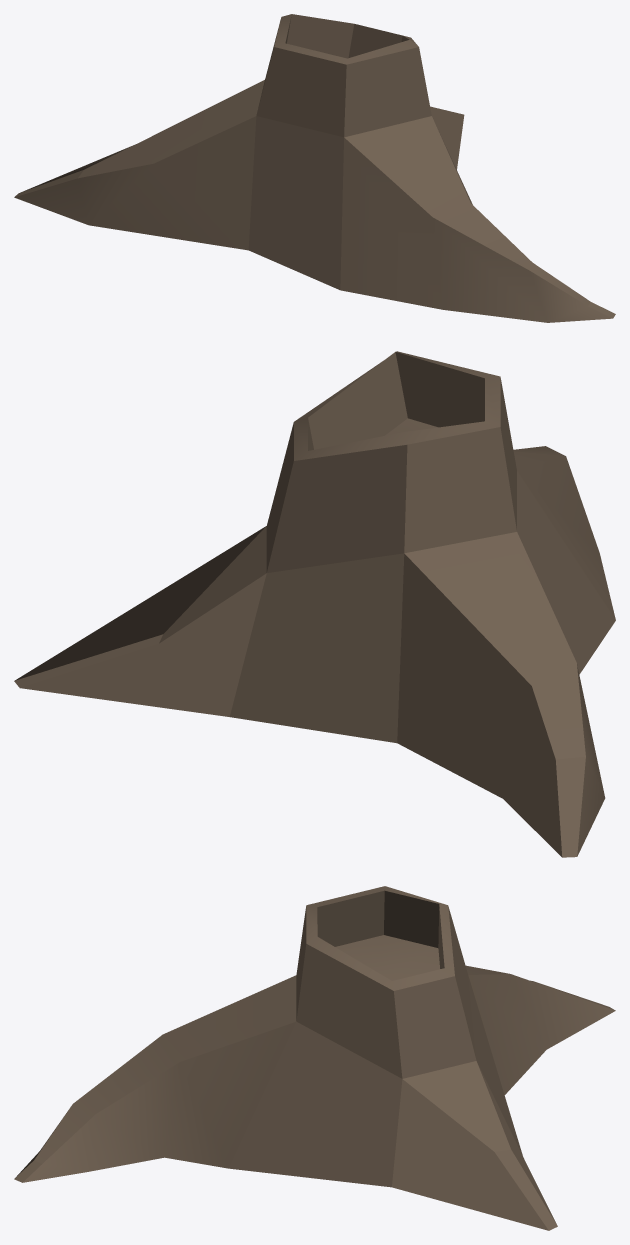
The model's file is Stump_Mesh.fbx.
3 views of the same model, one above another, from view 1: azimuth 30°, elevation 25°; view 2: azimuth 150°, elevation 25°; view 3: azimuth 270°, elevation 25° (orthographic). The views are drawn at different scales.
Visible parts, largest first — view 1: TreeStump_Mesh; view 2: TreeStump_Mesh; view 3: TreeStump_Mesh.
Part boxes in pixels (x1=…): TreeStump_Mesh: x1=14, y1=14, x2=615, y2=322; TreeStump_Mesh: x1=14, y1=351, x2=615, y2=857; TreeStump_Mesh: x1=14, y1=886, x2=615, y2=1230.
Size of the model in its own units: 125 by 54.4 by 142.
